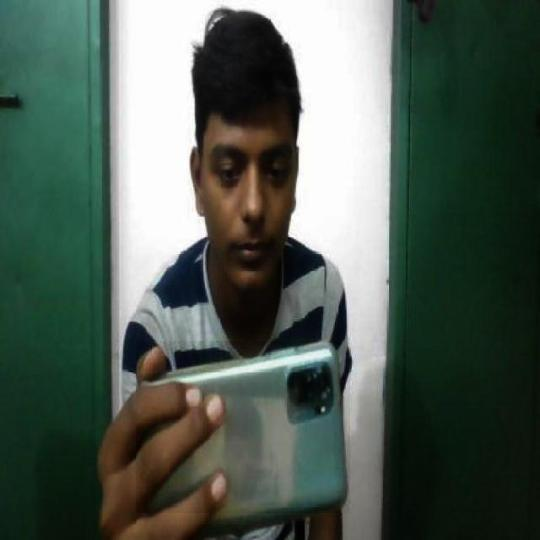phone: (134, 344, 343, 515)
